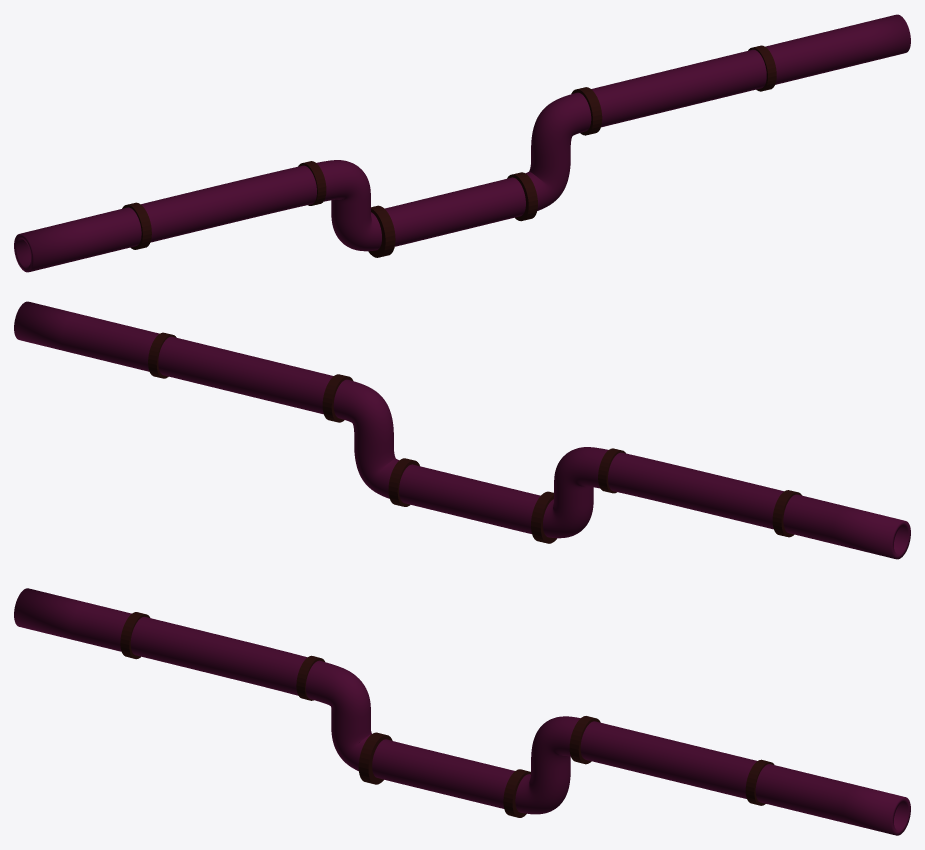
File: パイプ３.fbx
The picture shows the model from 3 angles, top to bottom: view 1: azimuth 30°, elevation 25°; view 2: azimuth 150°, elevation 25°; view 3: azimuth 330°, elevation 25°; orthographic projection.
Visible parts, largest first — view 1: NURBSパス.002, 円柱.022, 円柱.021, 円柱.018, 円柱.019, 円柱.017; view 2: NURBSパス.002, 円柱.022, 円柱.018, 円柱.021, 円柱.019, 円柱.017; view 3: NURBSパス.002, 円柱.022, 円柱.021, 円柱.018, 円柱.019, 円柱.017.
Part boxes in pixels (<box>): NURBSパス.002: <box>14,14,910,272</box>; 円柱.022: <box>368,205,395,257</box>; 円柱.021: <box>507,172,537,221</box>; 円柱.018: <box>571,87,602,135</box>; 円柱.019: <box>122,202,151,249</box>; 円柱.017: <box>748,45,776,91</box>; NURBSパス.002: <box>14,301,910,559</box>; 円柱.022: <box>531,491,556,543</box>; 円柱.018: <box>322,374,353,422</box>; 円柱.021: <box>388,458,419,506</box>; 円柱.019: <box>772,490,801,537</box>; 円柱.017: <box>148,332,176,378</box>; NURBSパス.002: <box>14,588,910,835</box>; 円柱.022: <box>358,732,392,784</box>; 円柱.021: <box>503,769,530,817</box>; 円柱.018: <box>569,716,600,764</box>; 円柱.019: <box>120,612,150,659</box>; 円柱.017: <box>745,759,774,805</box>.
Bounding box in the file's own units: 13.17 × 1.63 × 0.6642.
